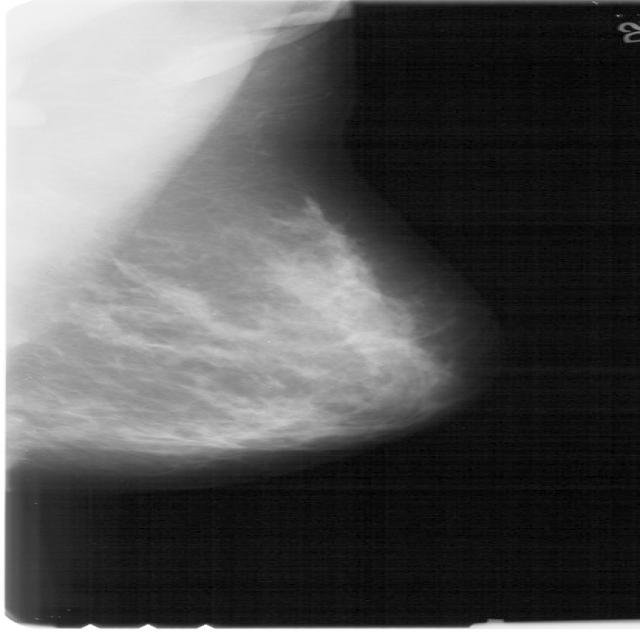tumour: (260, 236, 430, 372)
